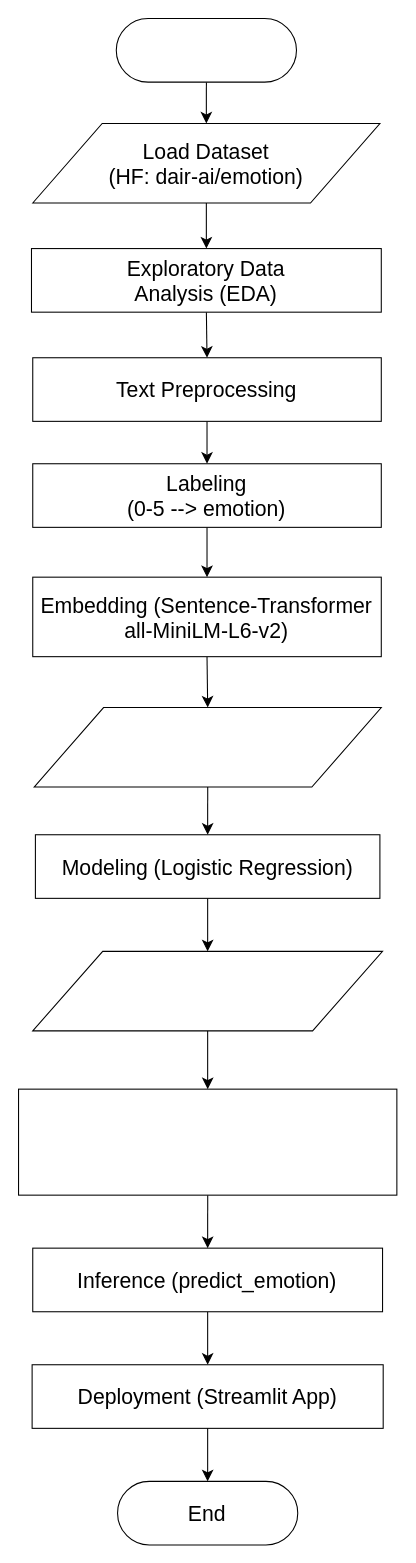
The diagram is 416 pixels wide and 1563 high, and some of its shapes have lost their labels. The shapes that lost their labels are listed below. From the top down, each one's box as (x1, y1, x2, y2) in pixels, then its label:
(115, 17, 296, 82): Start
(33, 706, 381, 787): Save Embeddings (artifacts/embeddings/)
(32, 950, 383, 1031): Save Model (models/)
(17, 1088, 397, 1195): Evaluation (Accuracy, F1, Classification Report, Confusion Matrix)
